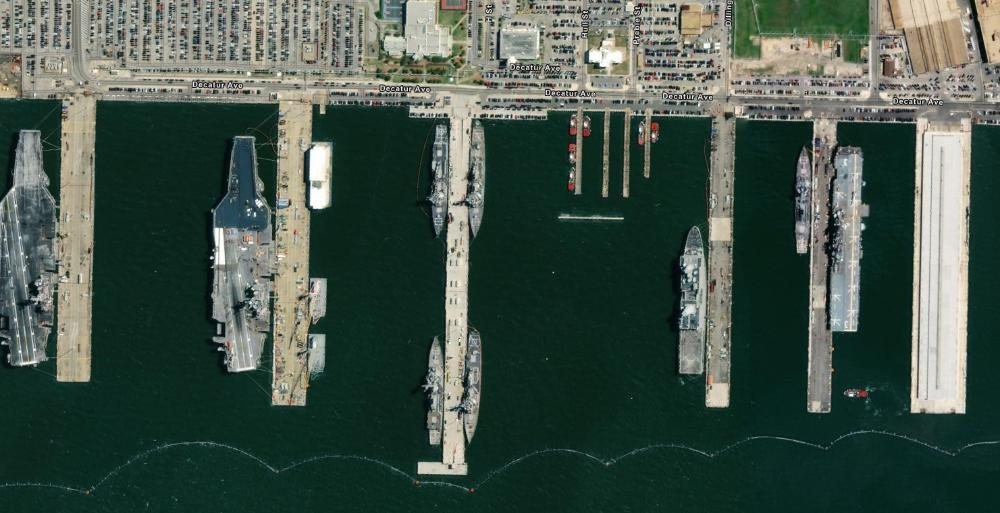cruiser: (466, 126, 488, 239), (431, 125, 449, 238)
fregate: (426, 335, 447, 451), (794, 143, 812, 256), (464, 330, 479, 449)
pha: (830, 143, 876, 343)
